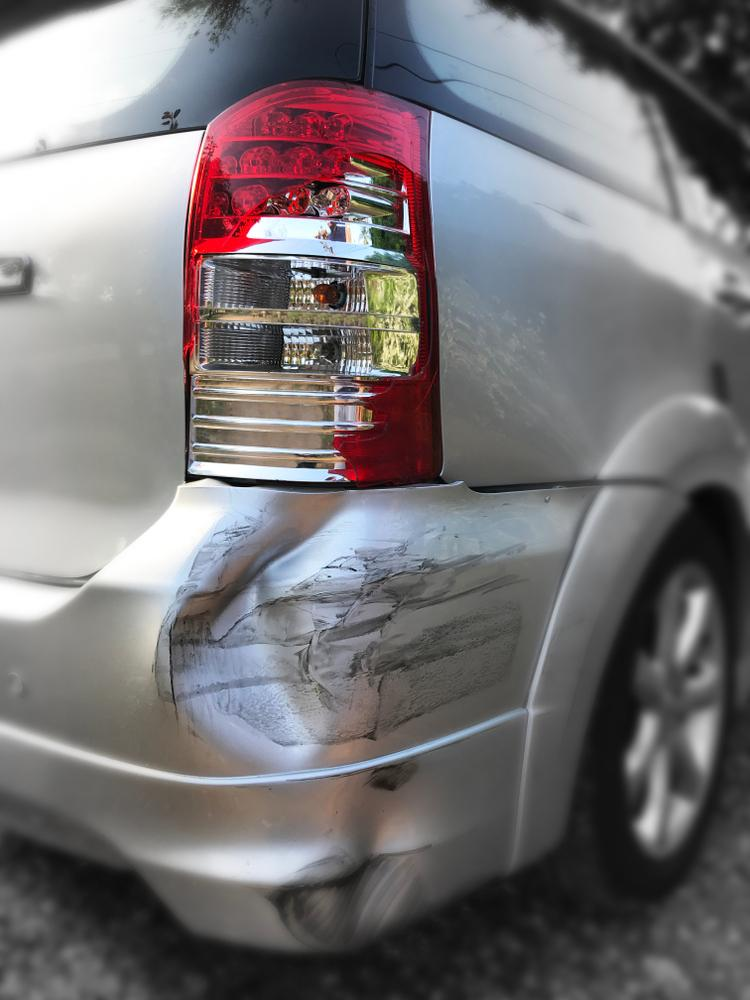dent: (166, 495, 369, 760), (342, 769, 418, 878)
lamp broken: (183, 76, 441, 489)
scratch: (330, 536, 531, 748), (149, 515, 262, 722), (264, 848, 420, 954), (382, 750, 424, 783)
